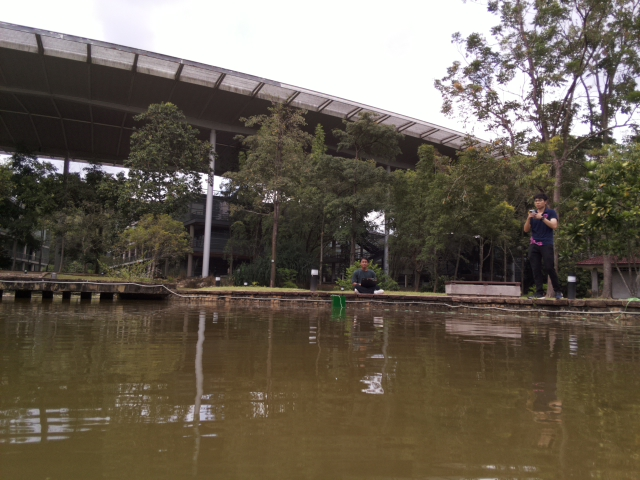obstacle: (331, 294, 347, 312)
